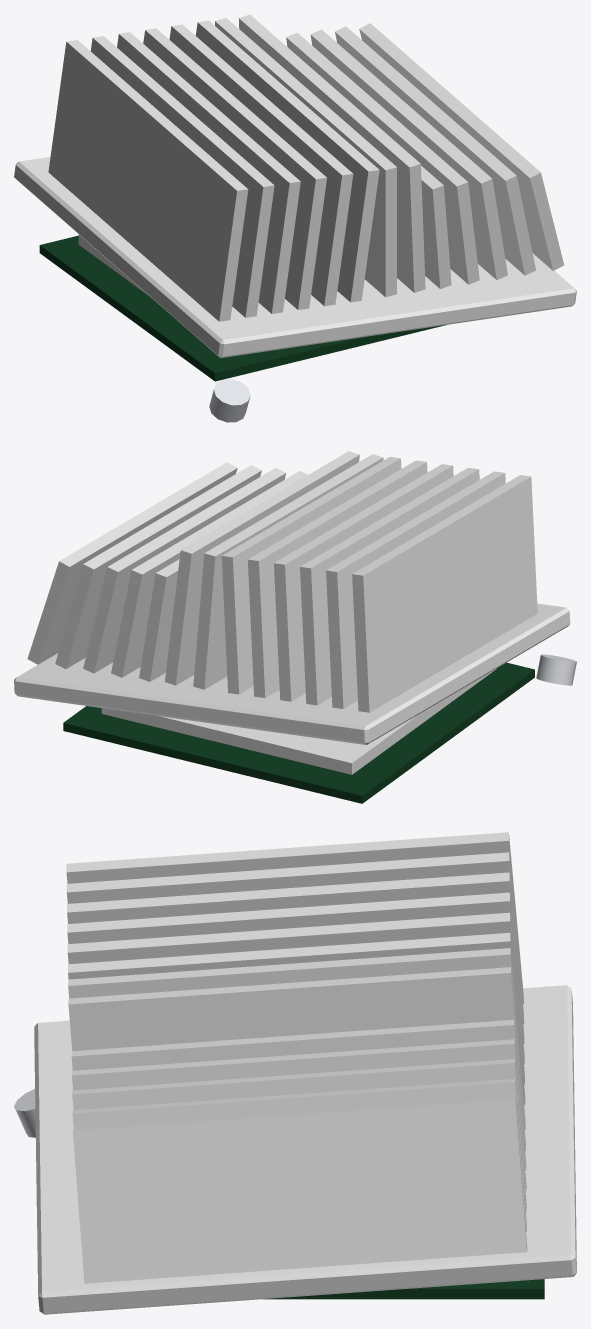
Rendered from asm_cpu_broken.glb.
The picture shows the model from 3 angles, top to bottom: view 1: azimuth 30°, elevation 25°; view 2: azimuth 150°, elevation 25°; view 3: azimuth 270°, elevation 25°; orthographic projection. The views are drawn at different scales.
Parts seen in each view (by area): view 1: Cooler, CPU; view 2: Cooler, CPU; view 3: Cooler, CPU.
Part boxes in pixels (left/top/right/bottom): Cooler: left=14, top=14, right=576, bottom=422; CPU: left=39, top=234, right=445, bottom=381; Cooler: left=14, top=451, right=576, bottom=744; CPU: left=63, top=662, right=534, bottom=803; Cooler: left=14, top=832, right=576, bottom=1314; CPU: left=263, top=1279, right=544, bottom=1299.
Bounding box in the file's own units: 0.1038 × 0.065 × 0.1065.
